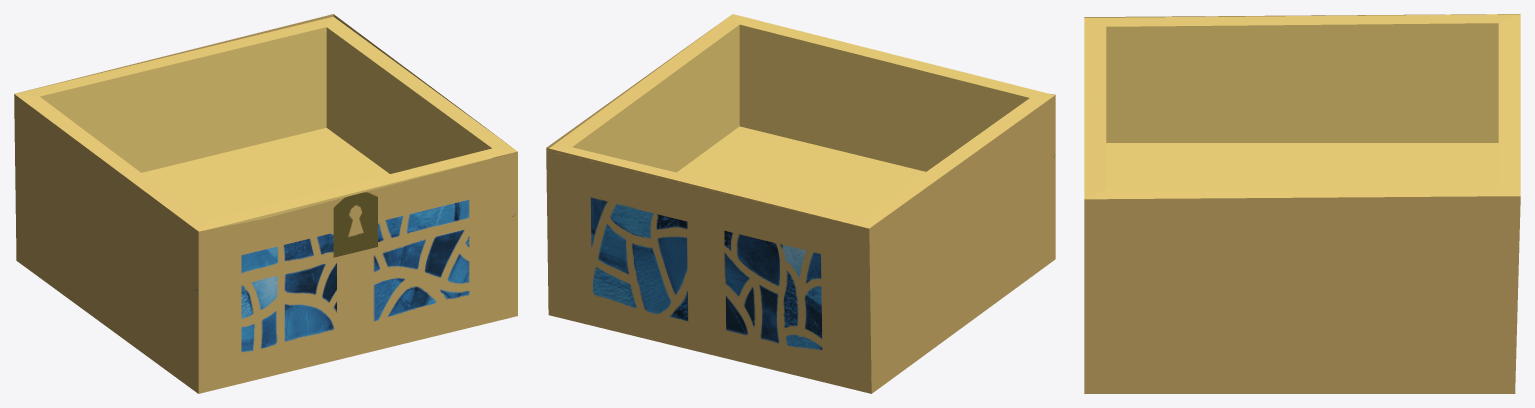
The model's file is chestBottom1.glb.
3 views of the same model, side by side, from view 1: azimuth 30°, elevation 25°; view 2: azimuth 150°, elevation 25°; view 3: azimuth 270°, elevation 25° (orthographic). The views are drawn at different scales.
Parts seen in each view (by area): view 1: Cube.001; view 2: Cube.001; view 3: Cube.001.
Boxes of the visible parts, x1,y1,x2,y2 form: Cube.001: (14, 14, 517, 393); Cube.001: (546, 14, 1055, 393); Cube.001: (1084, 14, 1520, 393).
Size of the model in its own units: 1 by 0.5 by 1.
Materials: 2 (1 with a texture image).
